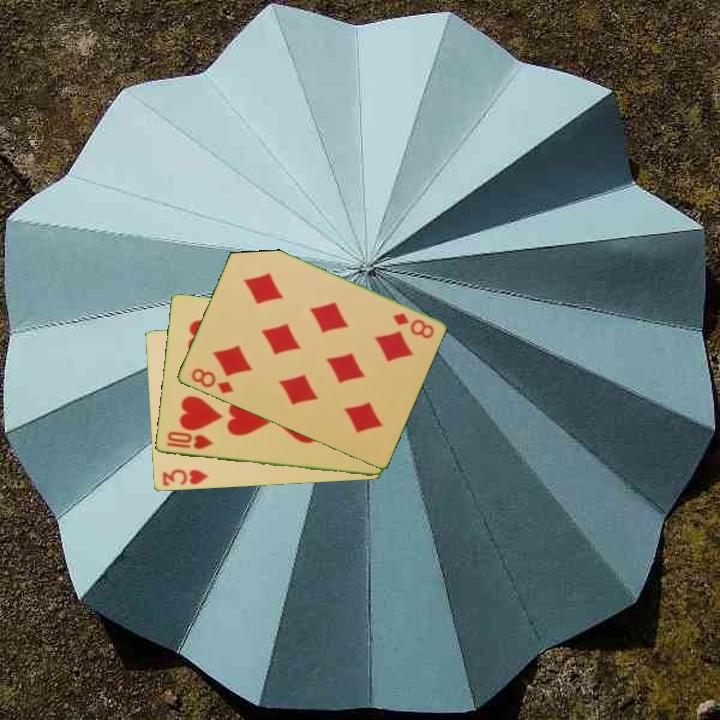10h: (163, 429, 215, 452)
3h: (158, 466, 210, 489)
8d: (389, 309, 437, 342), (187, 365, 236, 397)
